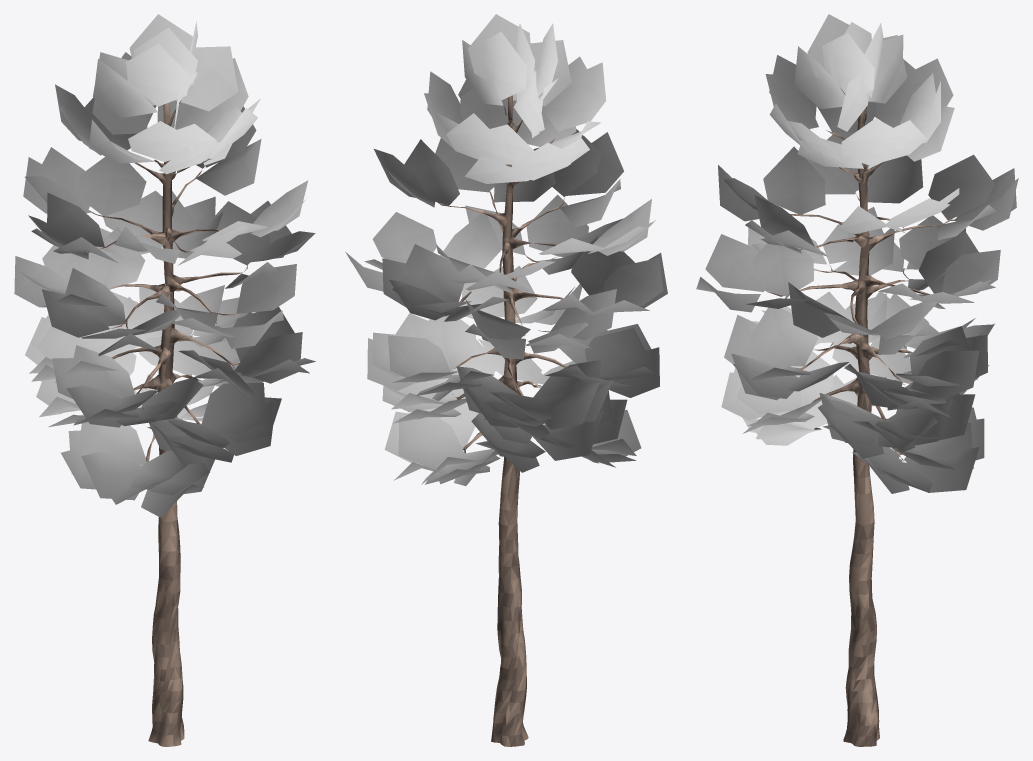
The model's file is tree-pine.glb.
3 views of the same model, side by side, from view 1: azimuth 30°, elevation 25°; view 2: azimuth 150°, elevation 25°; view 3: azimuth 270°, elevation 25° (orthographic).
Parts seen in each view (by area): view 1: leaves, bark; view 2: leaves, bark; view 3: leaves, bark.
Part boxes in pixels (x1,y1,x2,y2): leaves: (14,14,315,517); bark: (88,100,247,746); leaves: (345,14,667,485); bark: (436,95,566,746); leaves: (696,14,1018,493); bark: (766,107,953,746).
Size of the model in its own units: 0.4107 by 1 by 0.4076.
